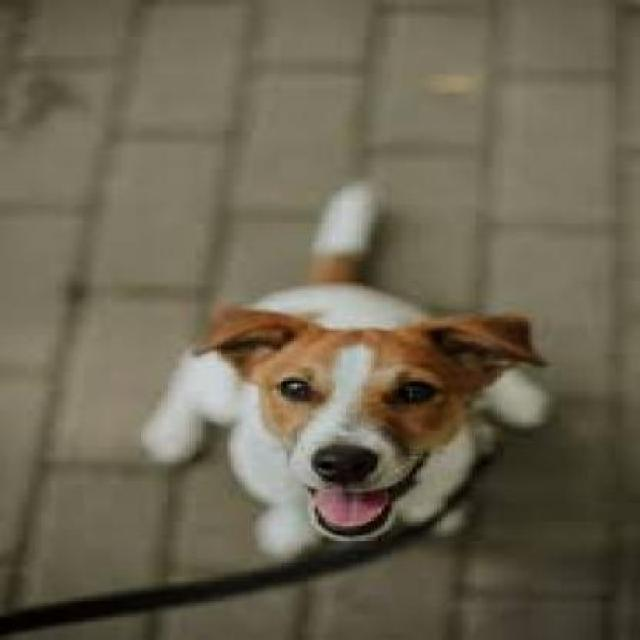animals: (80, 153, 574, 636)
